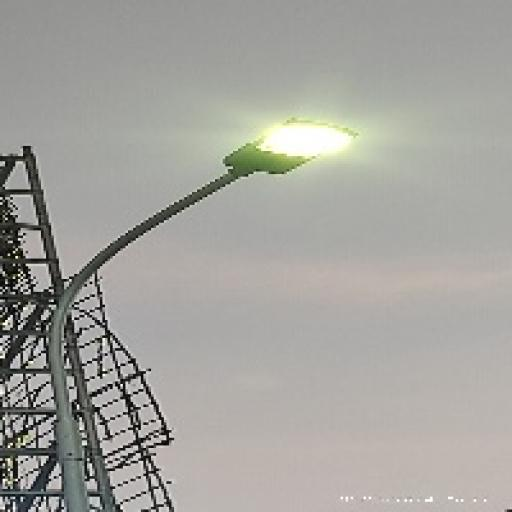Working: (212, 97, 364, 199)
